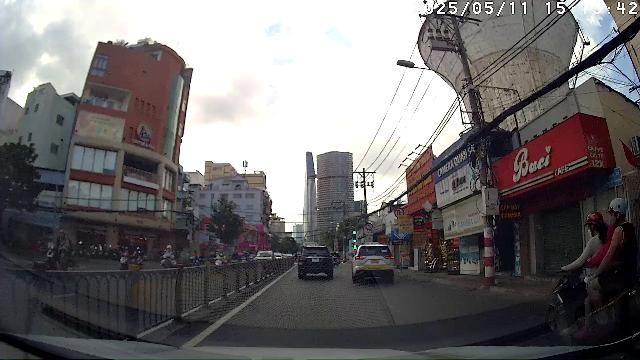124b-cam-oto-quay-dau-xe: (394, 207, 405, 217)
